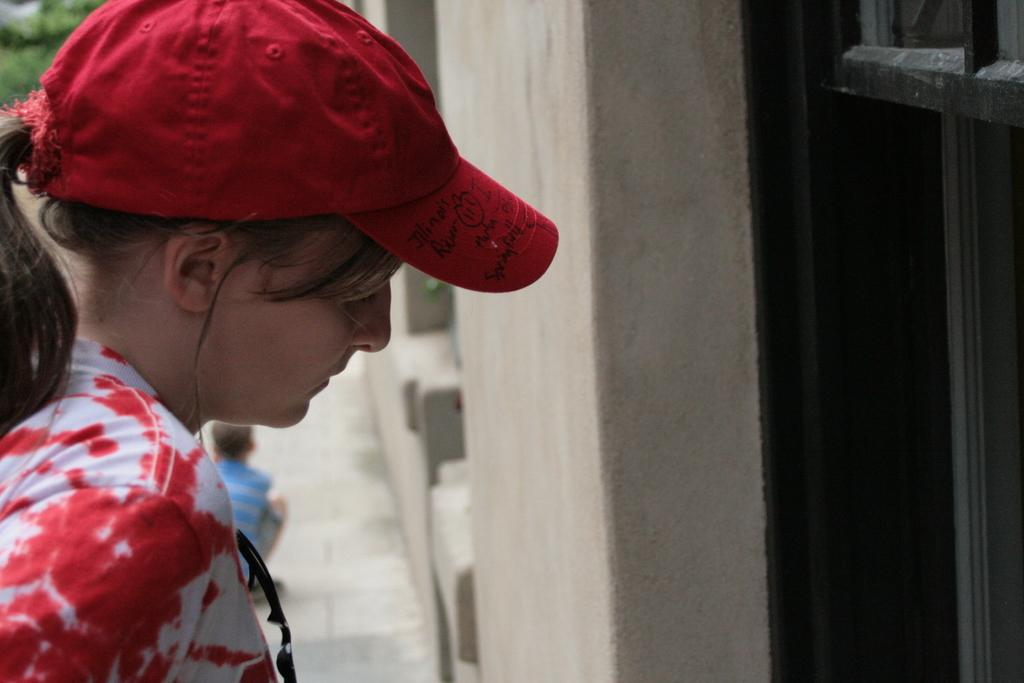Hat: (22, 0, 562, 294)
